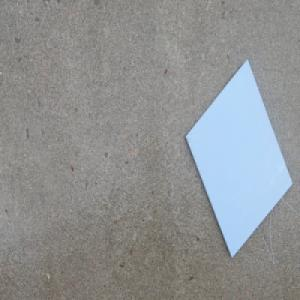PaintChip: (184, 57, 293, 259)
